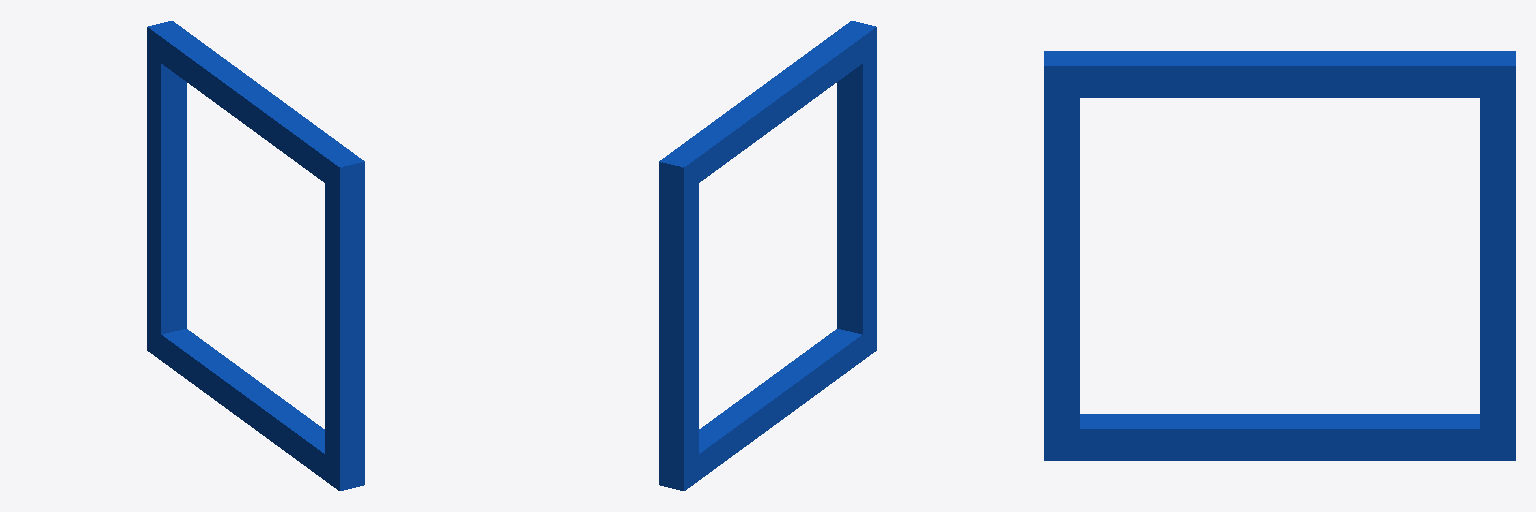
The robot description file, URDF, robot "gate_scale_098":
<?xml version="1.0" ?>
<robot name="gate_scale_098">
  <material name="gate_material">
    <color rgba="0.1 0.4 0.8 1.0"/>
  </material>
  <link name="base_link"/>
  <link name="left_post">
    <visual>
      <origin xyz="0.000 0.000 1.225" rpy="0 0 0"/>
      <geometry>
        <box size="0.200 0.200 2.450"/>
      </geometry>
      <material name="gate_material"/>
    </visual>
    <collision>
      <origin xyz="0.000 0.000 1.225" rpy="0 0 0"/>
      <geometry>
        <box size="0.200 0.200 2.450"/>
      </geometry>
    </collision>
    <inertial>
      <mass value="10.000"/>
      <inertia ixx="2.0" ixy="0.0" ixz="0.0" iyy="2.0" iyz="0.0" izz="2.0"/>
    </inertial>
  </link>
  <joint name="base_to_left_post" type="fixed">
    <parent link="base_link"/>
    <child link="left_post"/>
    <origin xyz="0.000 1.225 0.000" rpy="0 0 0"/>
  </joint>
  <link name="right_post">
    <visual>
      <origin xyz="0.000 0.000 1.225" rpy="0 0 0"/>
      <geometry>
        <box size="0.200 0.200 2.450"/>
      </geometry>
      <material name="gate_material"/>
    </visual>
    <collision>
      <origin xyz="0.000 0.000 1.225" rpy="0 0 0"/>
      <geometry>
        <box size="0.200 0.200 2.450"/>
      </geometry>
    </collision>
    <inertial>
      <mass value="10.000"/>
      <inertia ixx="2.0" ixy="0.0" ixz="0.0" iyy="2.0" iyz="0.0" izz="2.0"/>
    </inertial>
  </link>
  <joint name="base_to_right_post" type="fixed">
    <parent link="base_link"/>
    <child link="right_post"/>
    <origin xyz="0.000 -1.225 0.000" rpy="0 0 0"/>
  </joint>
  <link name="top_bar">
    <visual>
      <origin xyz="0.000 0.000 0.000" rpy="0 0 0"/>
      <geometry>
        <box size="0.200 2.646 0.200"/>
      </geometry>
      <material name="gate_material"/>
    </visual>
    <collision>
      <origin xyz="0.000 0.000 0.000" rpy="0 0 0"/>
      <geometry>
        <box size="0.200 2.646 0.200"/>
      </geometry>
    </collision>
    <inertial>
      <mass value="10.000"/>
      <inertia ixx="2.0" ixy="0.0" ixz="0.0" iyy="2.0" iyz="0.0" izz="2.0"/>
    </inertial>
  </link>
  <joint name="base_to_top_bar" type="fixed">
    <parent link="base_link"/>
    <child link="top_bar"/>
    <origin xyz="0.000 0.000 2.352" rpy="0 0 0"/>
  </joint>
  <link name="bottom_bar">
    <visual>
      <origin xyz="0.000 0.000 0.000" rpy="0 0 0"/>
      <geometry>
        <box size="0.200 2.646 0.200"/>
      </geometry>
      <material name="gate_material"/>
    </visual>
    <collision>
      <origin xyz="0.000 0.000 0.000" rpy="0 0 0"/>
      <geometry>
        <box size="0.200 2.646 0.200"/>
      </geometry>
    </collision>
    <inertial>
      <mass value="10.000"/>
      <inertia ixx="2.0" ixy="0.0" ixz="0.0" iyy="2.0" iyz="0.0" izz="2.0"/>
    </inertial>
  </link>
  <joint name="base_to_bottom_bar" type="fixed">
    <parent link="base_link"/>
    <child link="bottom_bar"/>
    <origin xyz="0.000 0.000 0.098" rpy="0 0 0"/>
  </joint>
</robot> 

--- Render facts (derived) ---
The picture shows the robot from 3 angles, left to right: view 1: azimuth 30°, elevation 25°; view 2: azimuth 150°, elevation 25°; view 3: azimuth 270°, elevation 25°; orthographic projection.
Model gate_scale_098 with 5 links and 4 joints (4 fixed), rooted at base_link, posed every joint at zero.
Visible links, largest first — view 1: right_post, left_post, top_bar, bottom_bar; view 2: left_post, right_post, top_bar, bottom_bar; view 3: top_bar, bottom_bar, left_post, right_post.
Boxes of the visible links, x1,y1,x2,y2 form: right_post: (325,158,364,490); left_post: (147,27,186,359); top_bar: (148,21,364,191); bottom_bar: (148,329,347,490); left_post: (659,158,698,490); right_post: (837,27,876,359); top_bar: (659,21,875,186); bottom_bar: (676,327,876,490); top_bar: (1045,51,1514,97); bottom_bar: (1049,414,1512,460); left_post: (1480,51,1515,460); right_post: (1044,51,1079,460).
Bounding box of the posed robot: 0.2 × 2.65 × 2.45 m (x, y, z).
Geometry: primitives only (box / cylinder / sphere), no mesh files.
